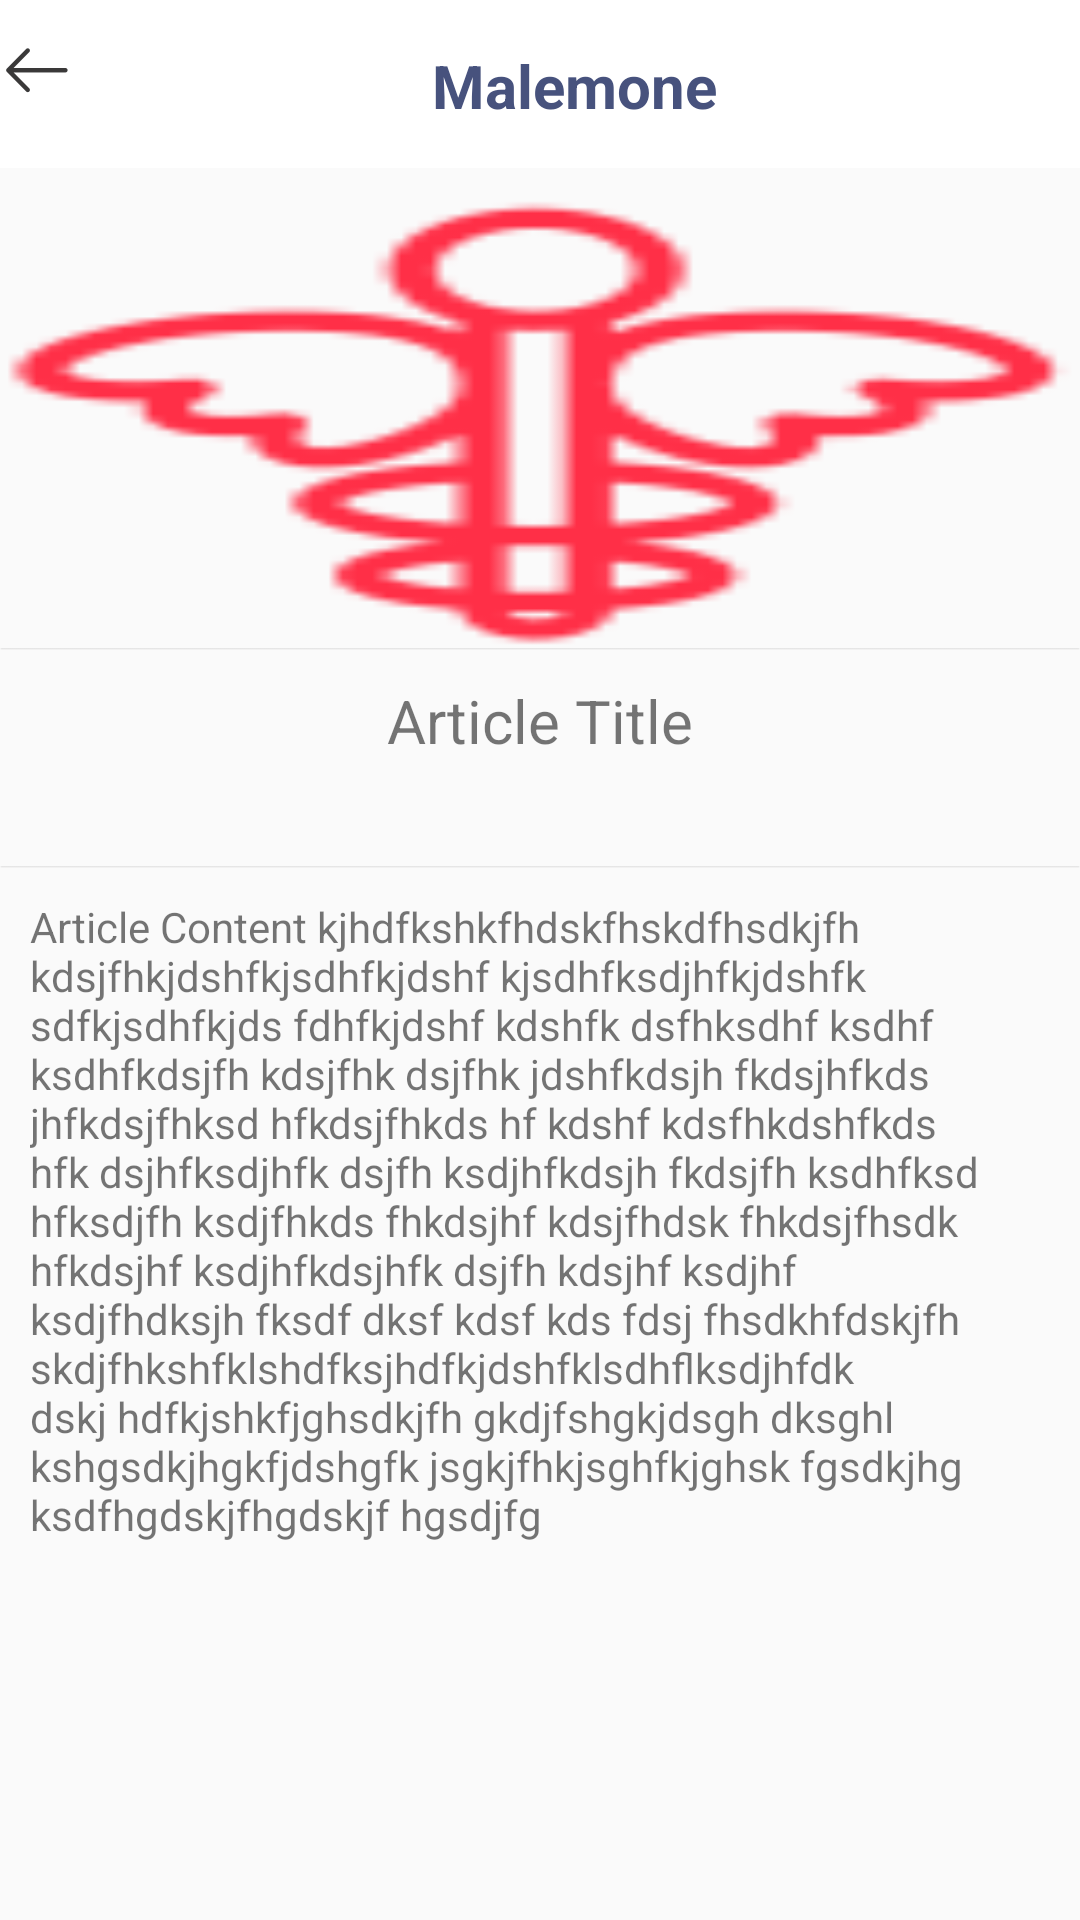

Screen size 1080*1920. Icon name, then its center in pixels as (x,y):
back: (37,70)
